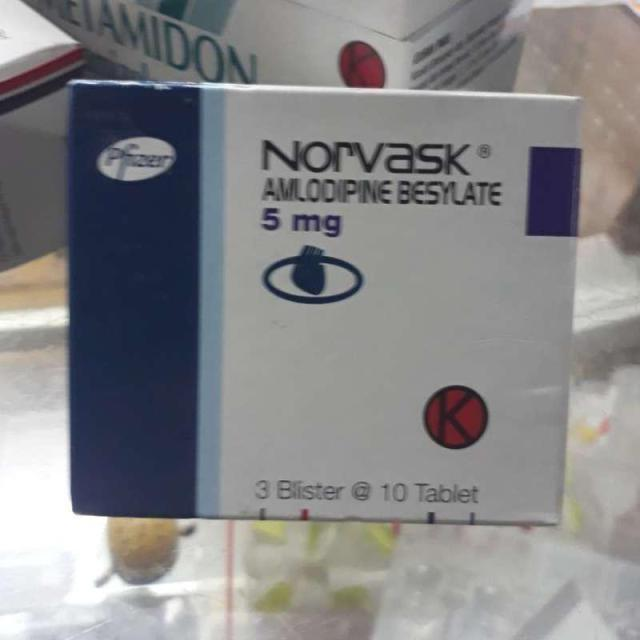drug-name: (258, 129, 473, 177)
